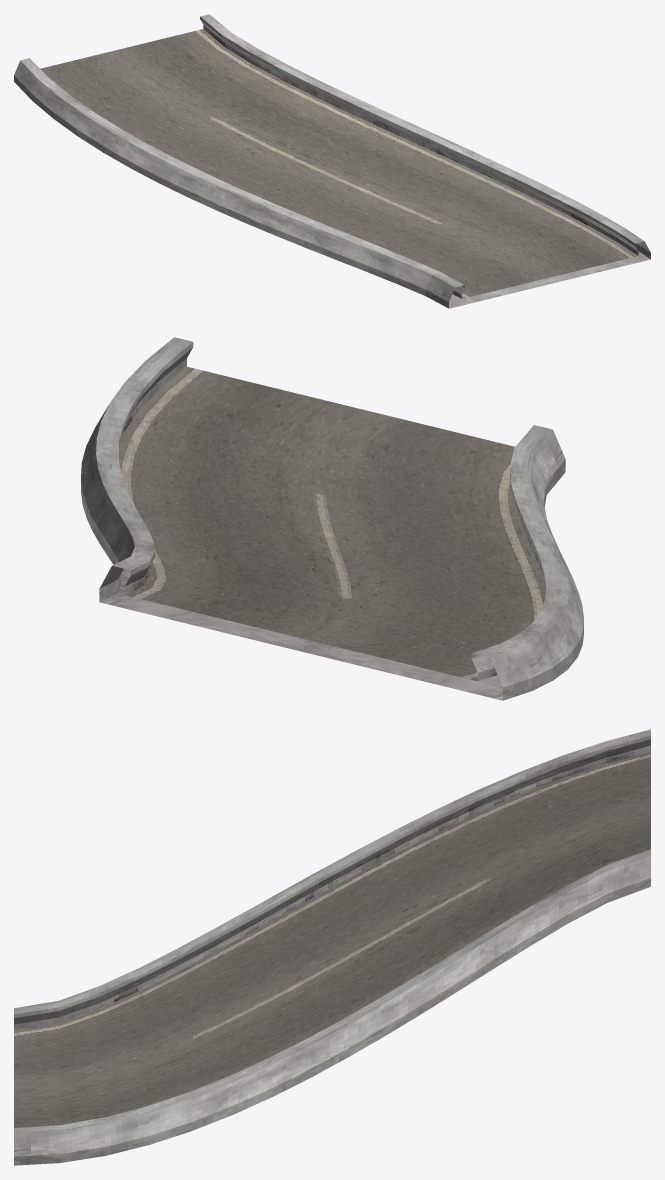
The model's file is chicane-left1x2.glb.
The picture shows the model from 3 angles, top to bottom: view 1: azimuth 30°, elevation 25°; view 2: azimuth 150°, elevation 25°; view 3: azimuth 270°, elevation 25°; orthographic projection. The views are drawn at different scales.
Parts seen in each view (by area): view 1: road-Chicane-Flat-BiSlopeUp-Up2-Left1-Size2; view 2: road-Chicane-Flat-BiSlopeUp-Up2-Left1-Size2; view 3: road-Chicane-Flat-BiSlopeUp-Up2-Left1-Size2.
Part boxes in pixels (box(x1,y1,x2,y2)): road-Chicane-Flat-BiSlopeUp-Up2-Left1-Size2: box(14, 14, 650, 308); road-Chicane-Flat-BiSlopeUp-Up2-Left1-Size2: box(81, 337, 583, 700); road-Chicane-Flat-BiSlopeUp-Up2-Left1-Size2: box(14, 729, 650, 1165).
Bounding box in the file's own units: 2 × 0.5938 × 2.
2 materials, 2 textured.
